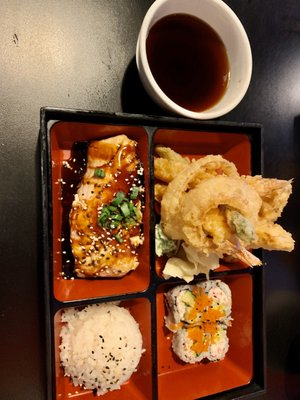sushi: (50, 125, 152, 303)
